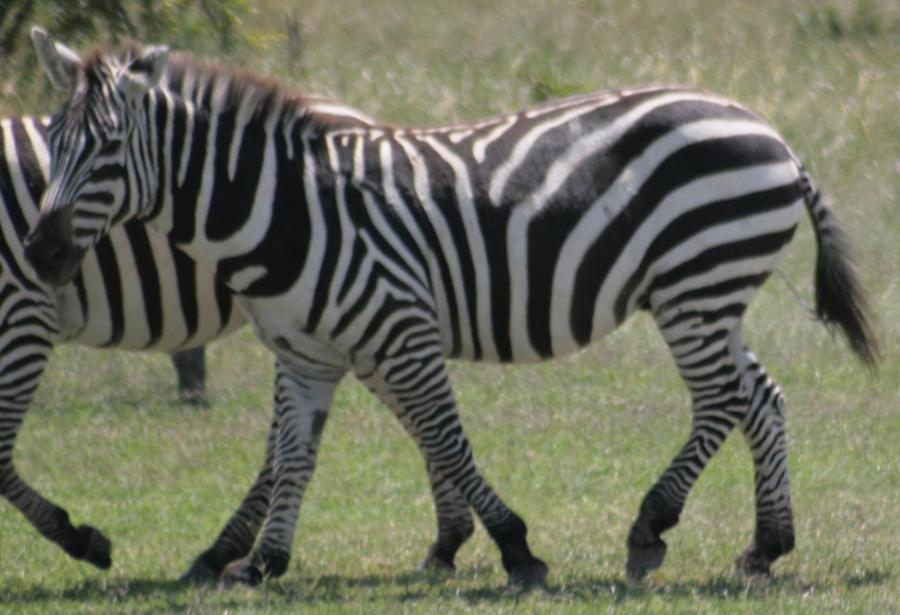zebra_plains: (266, 95, 795, 358)
